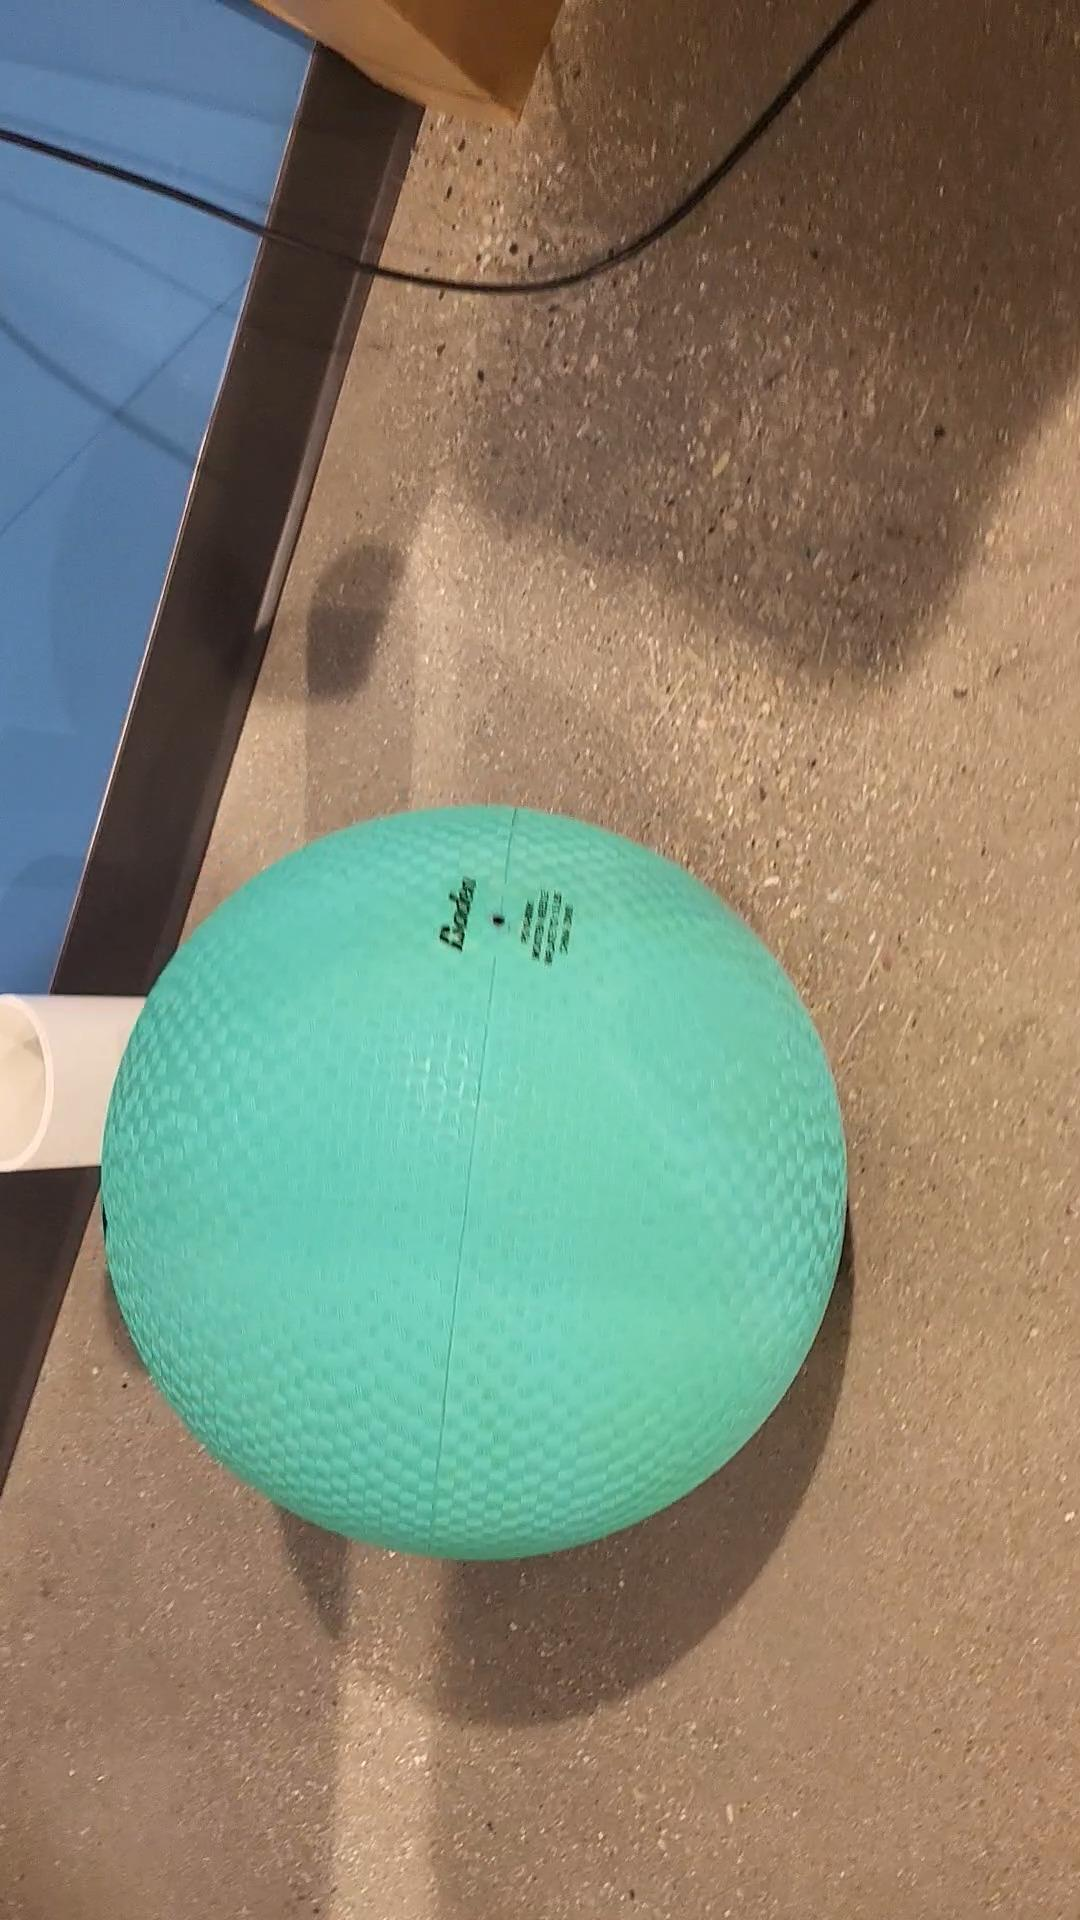algae: (105, 803, 843, 1565)
coral: (0, 993, 153, 1180)
